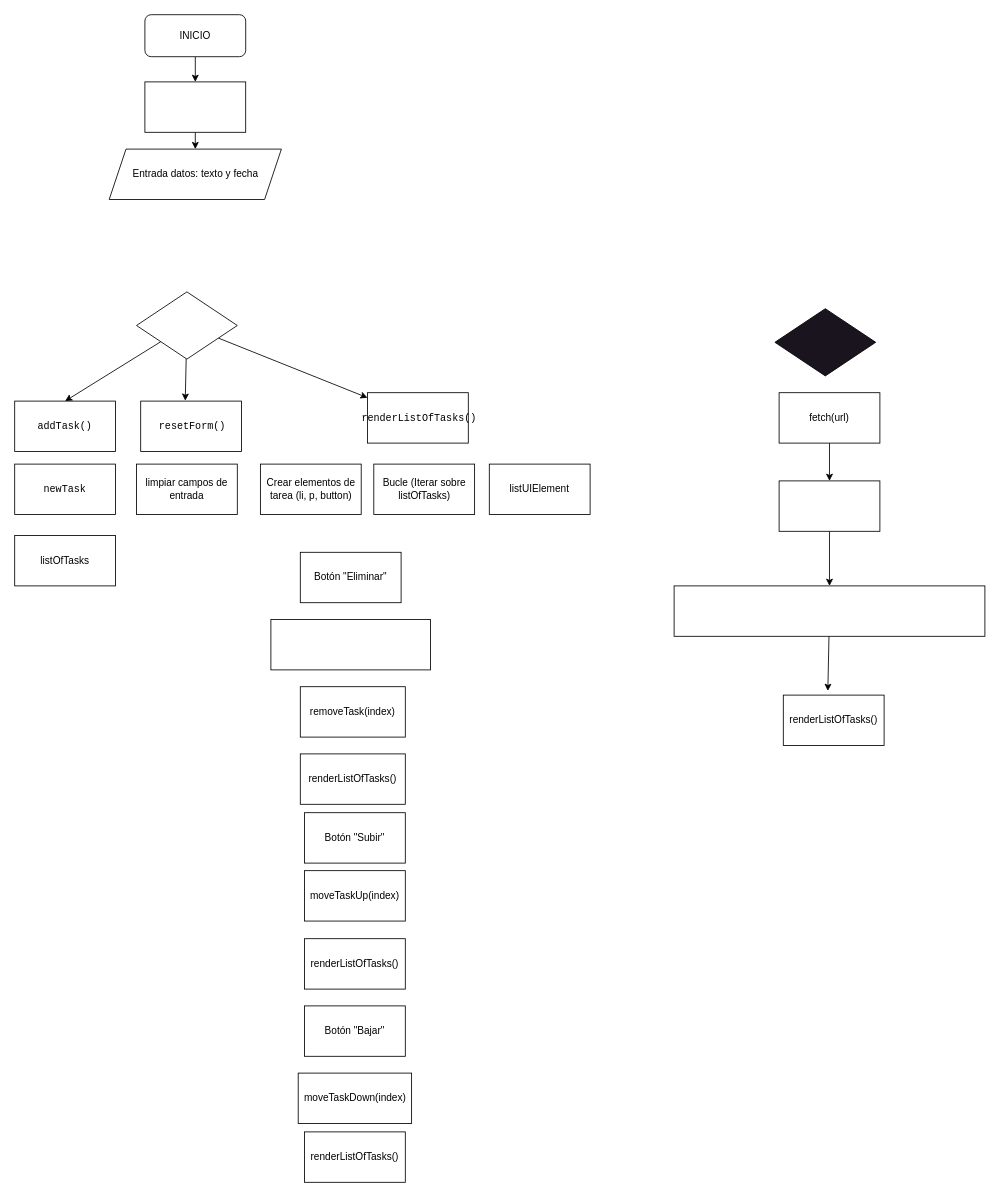
This 1000x1197 diagram has some shape labels left out. Here are the shapes that lost their labels. From the top down, the box of each, then its label:
(144, 81, 246, 132): Agregar tarea
(136, 291, 237, 359): 'agregar tarea' (onclick)
(774, 308, 876, 376): "Fetch" (onclick)
(778, 480, 880, 531): Procesar respuesta
(673, 585, 985, 636): Añadir tarea recibida a listOfTasks con fecha actual
(270, 619, 430, 670): showDeleteConfirmation(index)
